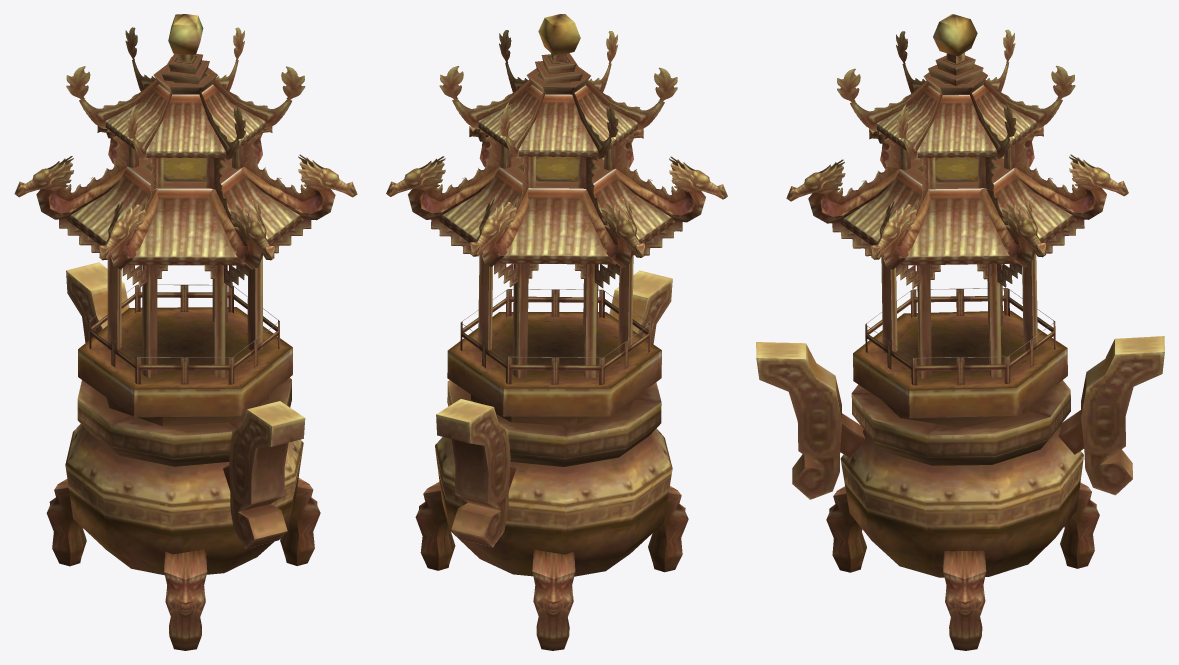
The model's file is WSD_Item_14.FBX.
3 renders of one model, left to right at view 1: azimuth 30°, elevation 25°; view 2: azimuth 150°, elevation 25°; view 3: azimuth 270°, elevation 25°, orthographic.
Visible parts, largest first — view 1: WSD_Item_14; view 2: WSD_Item_14; view 3: WSD_Item_14.
Boxes of the visible parts, box(x1,y1,x2,y2) form: WSD_Item_14: box(14, 14, 357, 650); WSD_Item_14: box(386, 14, 727, 650); WSD_Item_14: box(756, 14, 1164, 650).
Bounding box in the file's own units: 2.67 × 5.63 × 3.6.
1 material, 1 textured.
